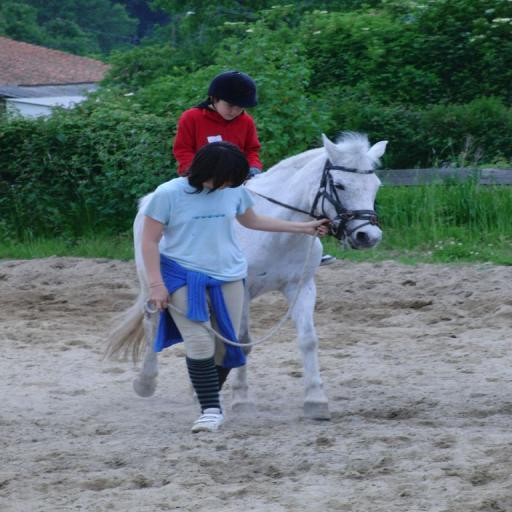horse: (100, 130, 392, 420)
